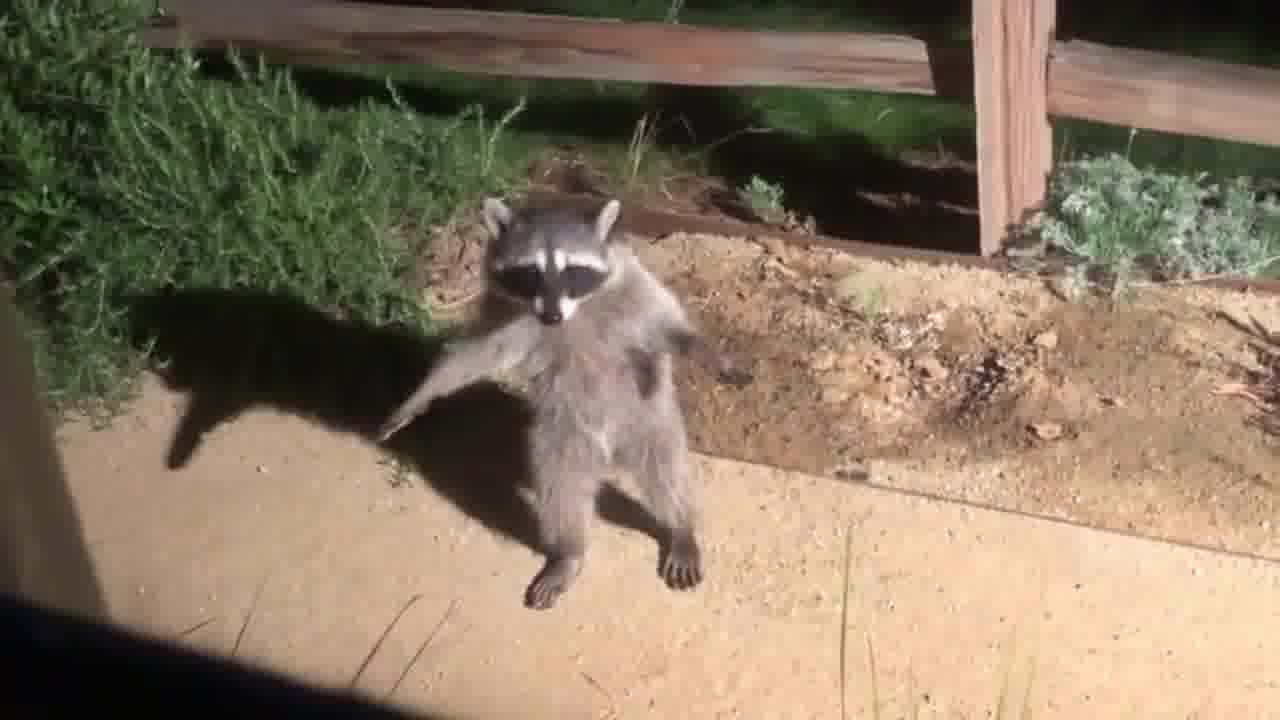raccoon: (380, 196, 759, 610)
